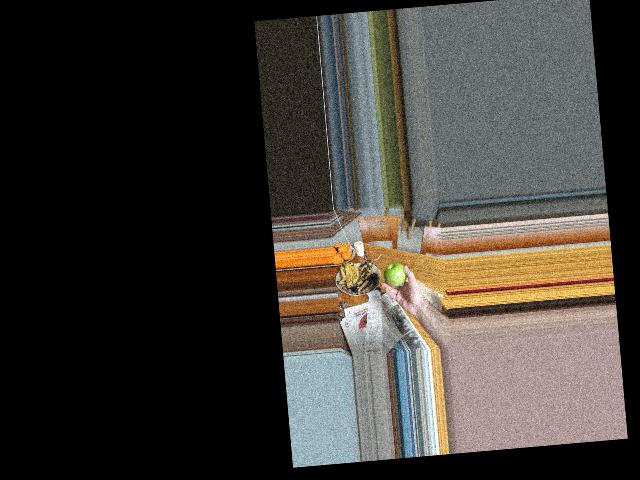apple: (383, 260, 407, 286)
